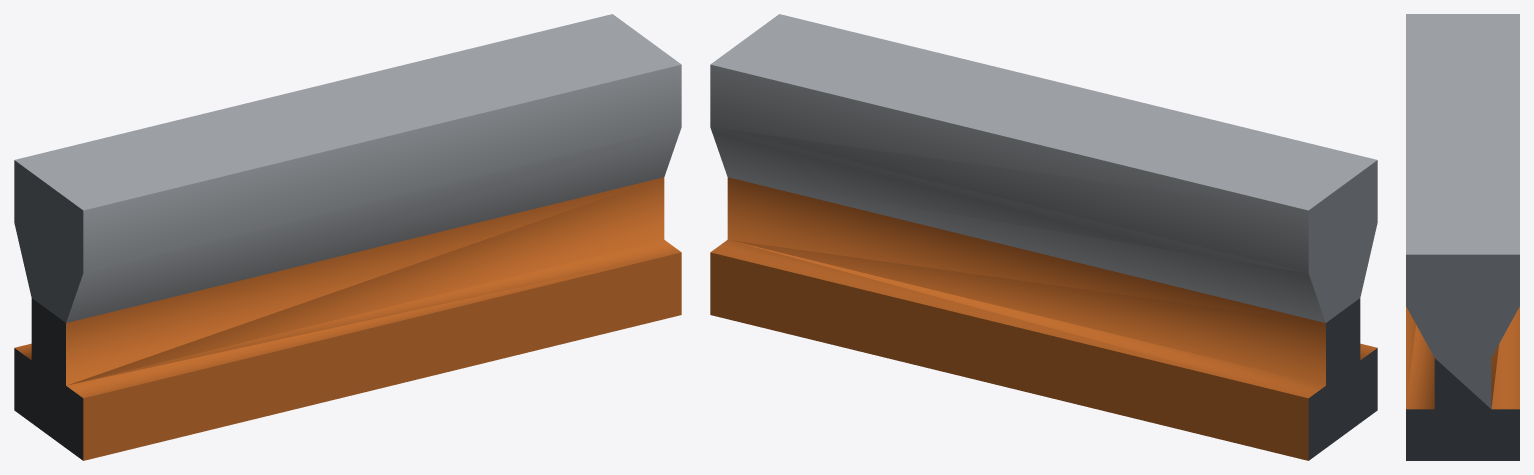
Rendered from Kit_balcony-rail-center.fbx.
3 renders of one model, left to right at view 1: azimuth 30°, elevation 25°; view 2: azimuth 150°, elevation 25°; view 3: azimuth 270°, elevation 25°, orthographic. The views are drawn at different scales.
Visible parts, largest first — view 1: Kit_balcony-rail-center; view 2: Kit_balcony-rail-center; view 3: Kit_balcony-rail-center.
Boxes of the visible parts, <box> form: Kit_balcony-rail-center: <box>14,14,681,460</box>; Kit_balcony-rail-center: <box>710,14,1377,460</box>; Kit_balcony-rail-center: <box>1406,14,1519,460</box>.
Bounding box in the file's own units: 1 × 0.4 × 0.2.
